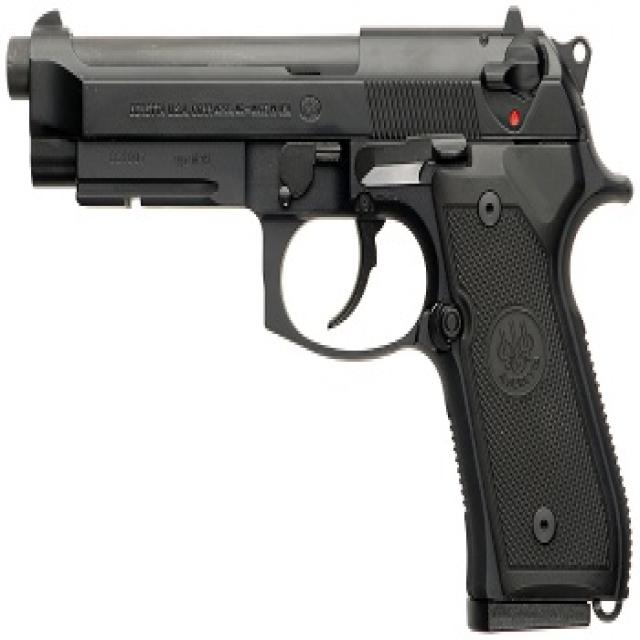Gun: (7, 15, 638, 625)
